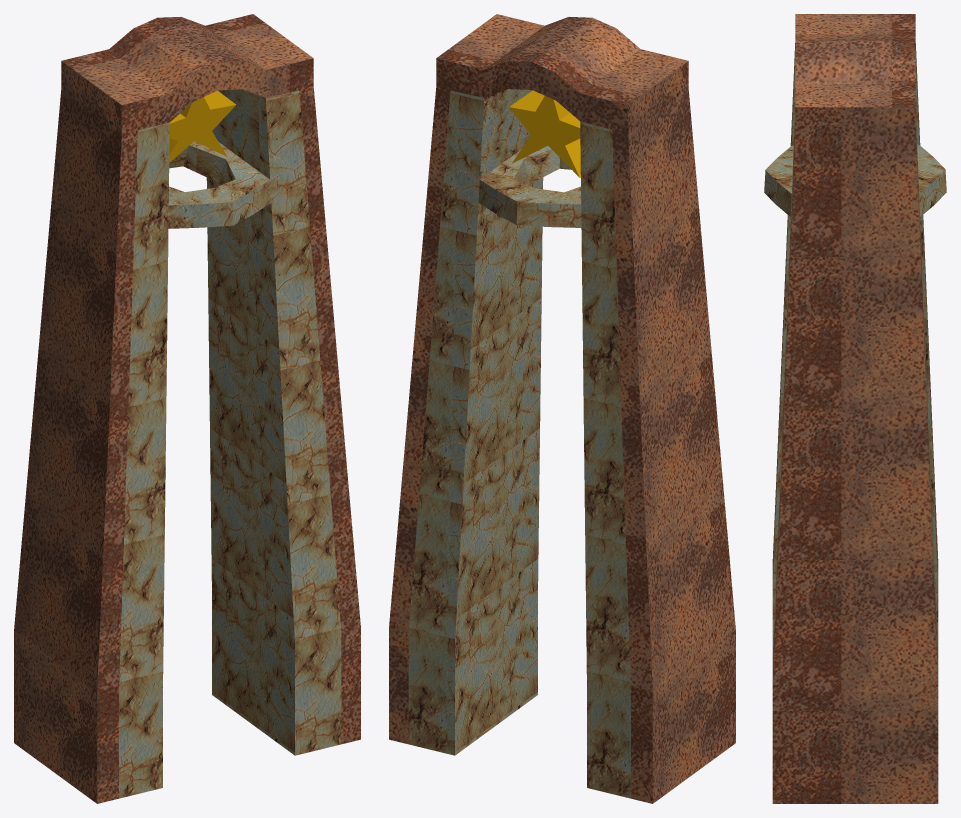
The picture shows the model from 3 angles, left to right: view 1: azimuth 30°, elevation 25°; view 2: azimuth 150°, elevation 25°; view 3: azimuth 270°, elevation 25°; orthographic projection.
Visible parts, largest first — view 1: 社員, 社員.001, 社員.002; view 2: 社員, 社員.001, 社員.002; view 3: 社員.001, 社員.
Part boxes in pixels (<box>): 社員: <box>119,89,341,798</box>; 社員.001: <box>14,14,360,803</box>; 社員.002: <box>169,90,235,162</box>; 社員: <box>408,89,630,798</box>; 社員.001: <box>389,14,735,803</box>; 社員.002: <box>509,90,580,177</box>; 社員.001: <box>772,14,938,803</box>; 社員: <box>764,50,946,676</box>.
Size of the model in its own units: 382 by 970 by 230.
Materials: 3 (2 with a texture image).
